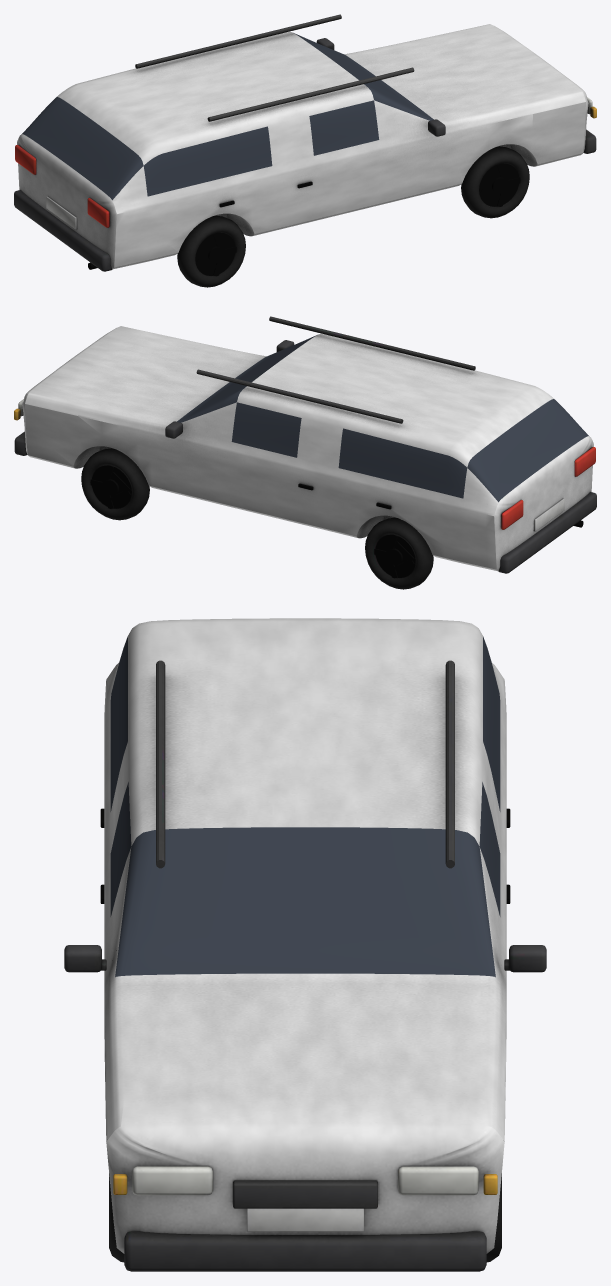
Rendered from estate_tex.glb.
3 views of the same model, one above another, from view 1: azimuth 30°, elevation 25°; view 2: azimuth 150°, elevation 25°; view 3: azimuth 270°, elevation 25° (orthographic). The views are drawn at different scales.
Visible parts, largest first — view 1: car; view 2: car; view 3: car.
Part boxes in pixels (x1,y1,x2,y2): car: [14, 14, 596, 287]; car: [14, 316, 596, 589]; car: [64, 618, 546, 1271].
Bounding box in the file's own units: 4.88 × 1.53 × 2.06.
Materials: 4 (3 with a texture image).
